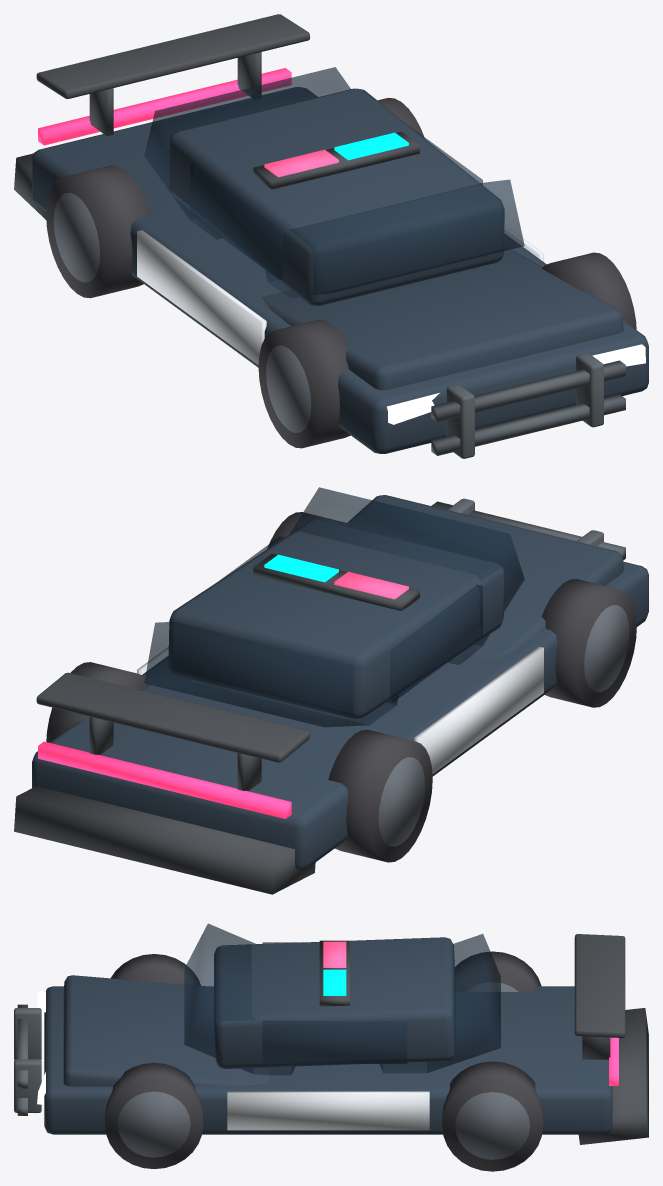
File: interceptor.glb
3 views of the same model, one above another, from view 1: azimuth 30°, elevation 25°; view 2: azimuth 150°, elevation 25°; view 3: azimuth 270°, elevation 25° (orthographic). The views are drawn at different scales.
Visible parts, largest first — view 1: Chassis_Cabin, Chassis_Lower, Chassis_Hood, Window_Windshield, Carbon_RearWing, RL_Tire, FL_Tire, Chassis_DoorPanel_L, Window_Rear, Window_Side_L, Light_Tail_Blade, RL_Wheel_Rim (+14 smaller); view 2: Chassis_Cabin, Chassis_Lower, Chassis_Hood, Window_Rear, Carbon_Diffuser, Window_Windshield, Carbon_RearWing, RL_Tire, FL_Tire, Chassis_DoorPanel_L, Window_Side_L, Light_Tail_Blade (+10 smaller); view 3: Chassis_Lower, Chassis_Cabin, Chassis_Hood, Chassis_DoorPanel_R, Window_Windshield, Window_Side_R, Window_Rear, Carbon_RearWing, RR_Tire, FR_Tire, Carbon_Diffuser, RR_Wheel_Rim (+11 smaller).
Part boxes in pixels (box(x1,y1,x2,y2)): Chassis_Cabin: box(168, 88, 504, 305); Chassis_Lower: box(32, 87, 648, 453); Chassis_Hood: box(261, 246, 623, 390); Window_Windshield: box(265, 179, 524, 297); Carbon_RearWing: box(36, 14, 310, 98); RL_Tire: box(46, 165, 150, 298); FL_Tire: box(258, 319, 350, 448); Chassis_DoorPanel_L: box(137, 230, 266, 365); Window_Rear: box(144, 67, 350, 239); Window_Side_L: box(190, 163, 284, 279); Light_Tail_Blade: box(38, 68, 291, 145); RL_Wheel_Rim: box(53, 193, 100, 282); Chassis_Cabin: box(168, 519, 504, 718); Chassis_Lower: box(32, 561, 648, 870); Chassis_Hood: box(347, 495, 623, 660); Window_Rear: box(144, 621, 398, 727); Carbon_Diffuser: box(14, 786, 315, 894); Window_Windshield: box(289, 487, 524, 664); Carbon_RearWing: box(36, 672, 309, 762); RL_Tire: box(328, 729, 432, 862); FL_Tire: box(541, 579, 636, 707); Chassis_DoorPanel_L: box(414, 646, 543, 774); Window_Side_L: box(388, 585, 482, 701); Light_Tail_Blade: box(38, 741, 291, 818); Chassis_Lower: box(44, 986, 612, 1134); Chassis_Cabin: box(214, 937, 455, 1068); Chassis_Hood: box(63, 975, 269, 1086); Chassis_DoorPanel_R: box(227, 1091, 429, 1130); Window_Windshield: box(184, 923, 295, 1074); Window_Side_R: box(262, 1021, 407, 1063); Window_Rear: box(379, 934, 500, 1073); Carbon_RearWing: box(574, 934, 625, 1037); RR_Tire: box(442, 1061, 543, 1171); FR_Tire: box(105, 1063, 203, 1168); Carbon_Diffuser: box(578, 1008, 648, 1144); RR_Wheel_Rim: box(455, 1092, 529, 1159).
Size of the model in its own units: 2.42 by 1.28 by 5.03.
